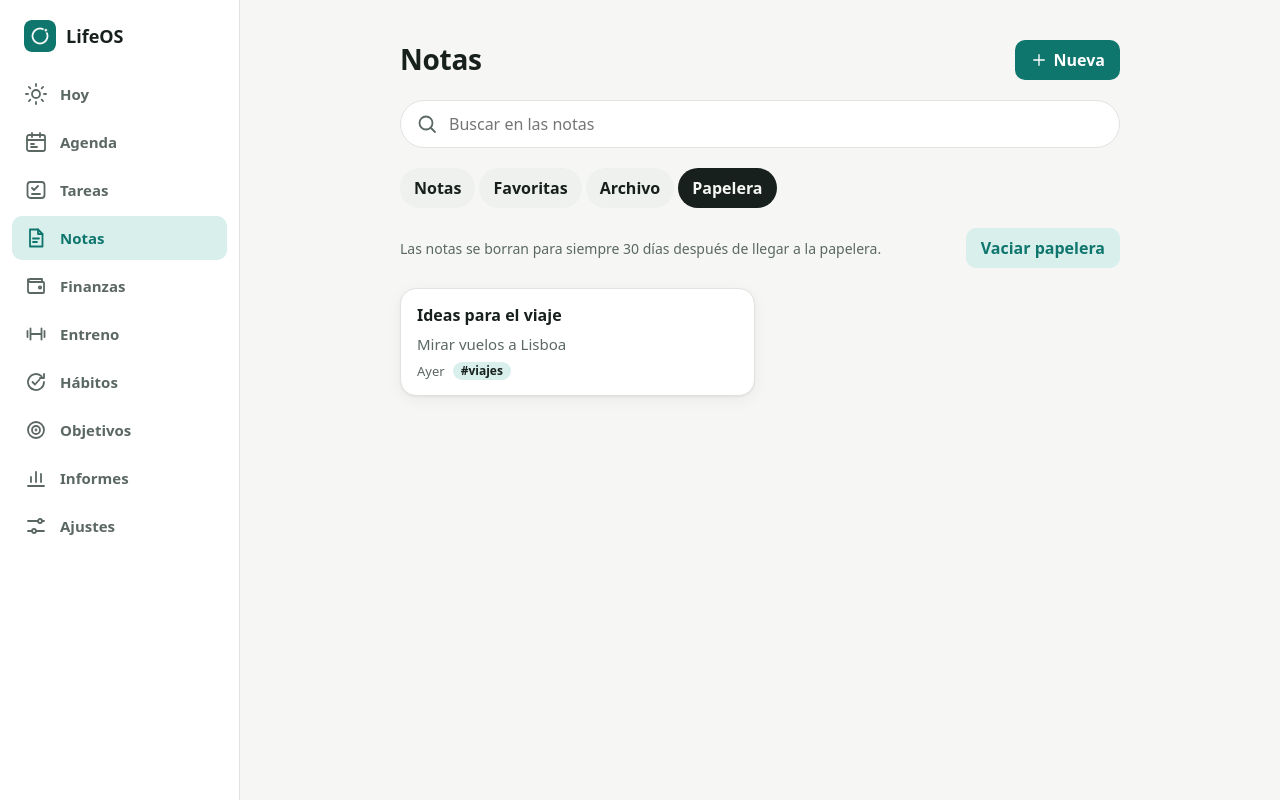
Test: notas › vacía la papelera tras confirmar
The width and height of the screenshot is (1280, 800).
Expected: the text "se borran para siempre 30 días" is shown, [400, 238, 881, 258]
Step 1. Click the button "Vaciar papelera" → (1043, 248), box [966, 228, 1120, 268]
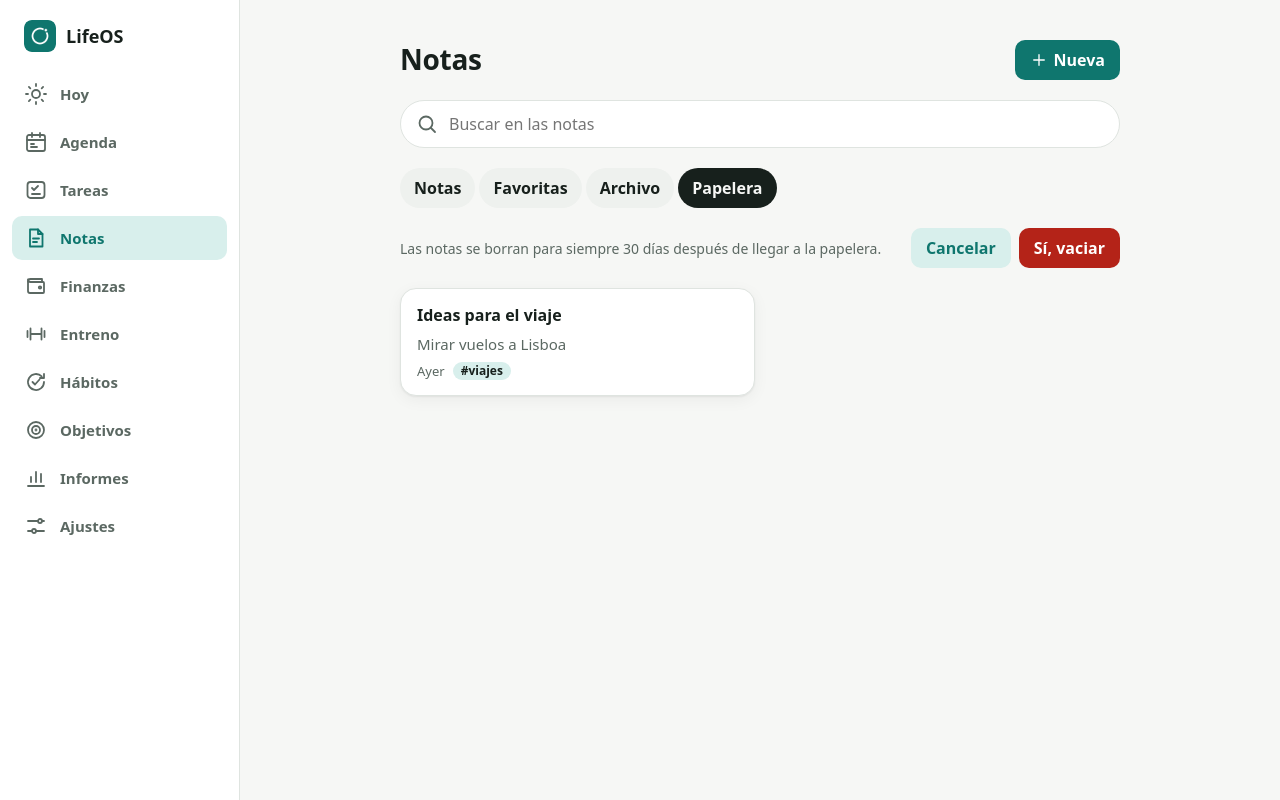
Step 2. Click the button "Sí, vaciar" → (1069, 248), box [1019, 228, 1120, 268]
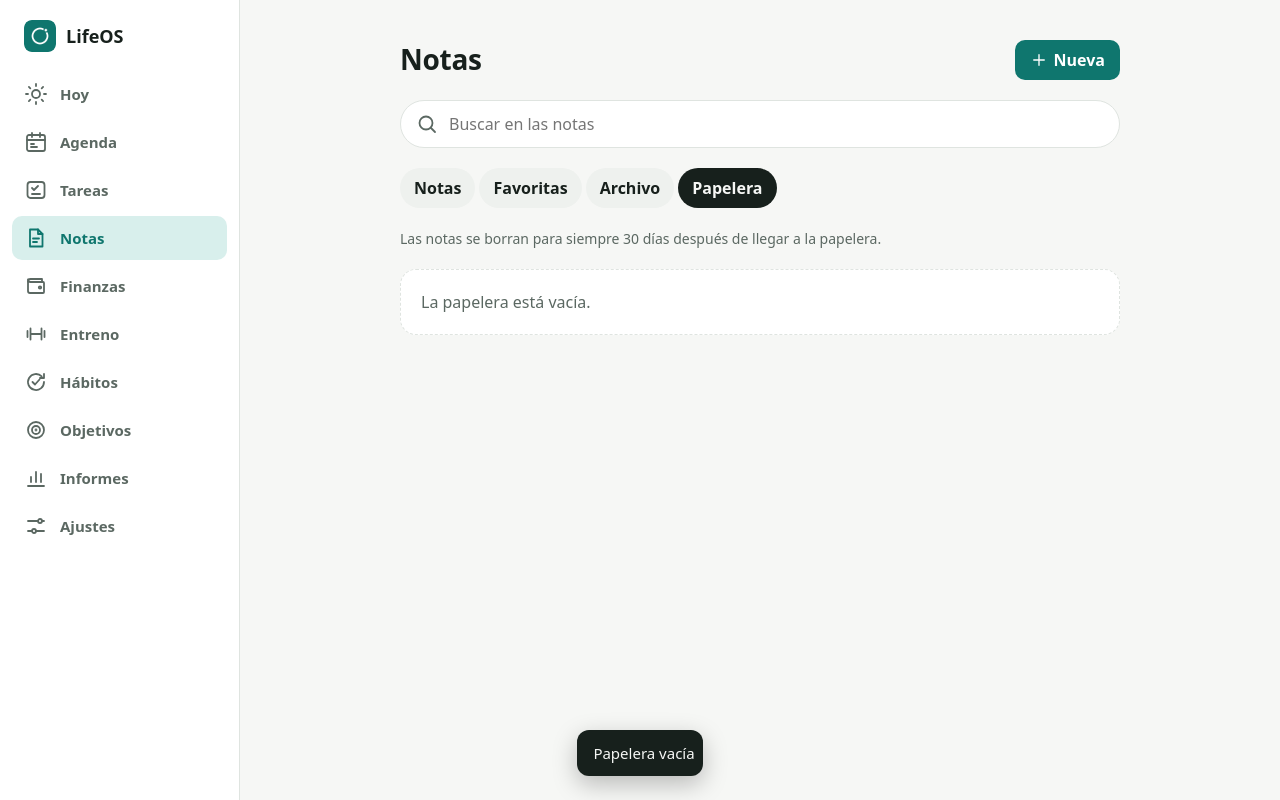
Expected: the text "La papelera está vacía." is shown, [421, 291, 591, 313]
